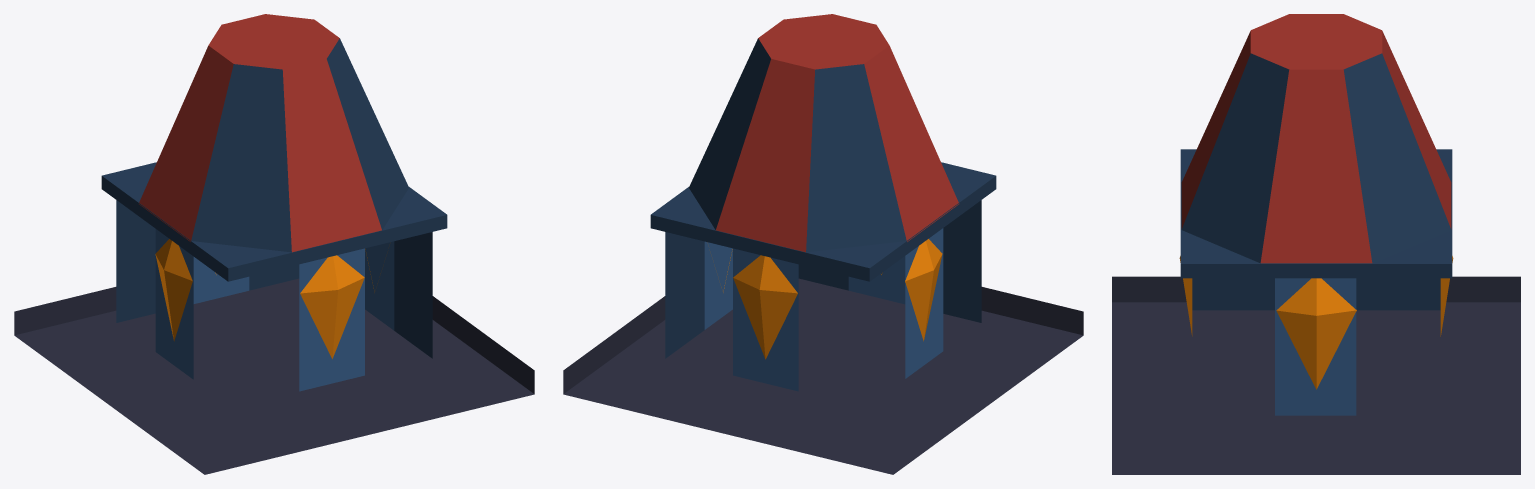
File: 3D_TorreMago.fbx
3 renders of one model, left to right at view 1: azimuth 30°, elevation 25°; view 2: azimuth 150°, elevation 25°; view 3: azimuth 270°, elevation 25°, orthographic. The views are drawn at different scales.
Visible parts, largest first — view 1: Base, Colore Torre, Tetto, Strisce Torre, Torre, Plane.001, Gemme; view 2: Base, Colore Torre, Tetto, Strisce Torre, Torre, Plane.001, Gemme; view 3: Base, Colore Torre, Tetto, Plane.001, Strisce Torre, Torre, Gemme.
Part boxes in pixels (x1,y1,x2,y2): Base: (14, 278, 534, 474); Colore Torre: (139, 14, 381, 252); Tetto: (191, 38, 408, 252); Strisce Torre: (155, 229, 394, 391); Torre: (116, 200, 432, 358); Plane.001: (101, 162, 447, 281); Gemme: (155, 239, 380, 358); Base: (563, 278, 1083, 474); Colore Torre: (716, 14, 959, 252); Tetto: (689, 38, 906, 252); Strisce Torre: (704, 228, 943, 391); Torre: (665, 200, 981, 358); Plane.001: (650, 162, 996, 281); Gemme: (721, 239, 942, 359); Base: (1112, 276, 1520, 474); Colore Torre: (1181, 14, 1451, 263); Tetto: (1181, 53, 1451, 263); Plane.001: (1180, 149, 1452, 278); Strisce Torre: (1275, 278, 1356, 415); Torre: (1192, 278, 1440, 310); Gemme: (1179, 256, 1453, 389).
Bounding box in the file's own units: 255 × 239 × 255.
